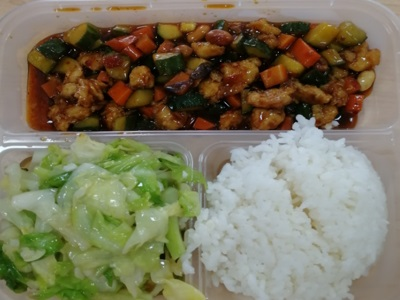cct: (12, 156, 184, 294)
gbjd: (32, 24, 355, 123)
rice: (212, 145, 362, 288)
